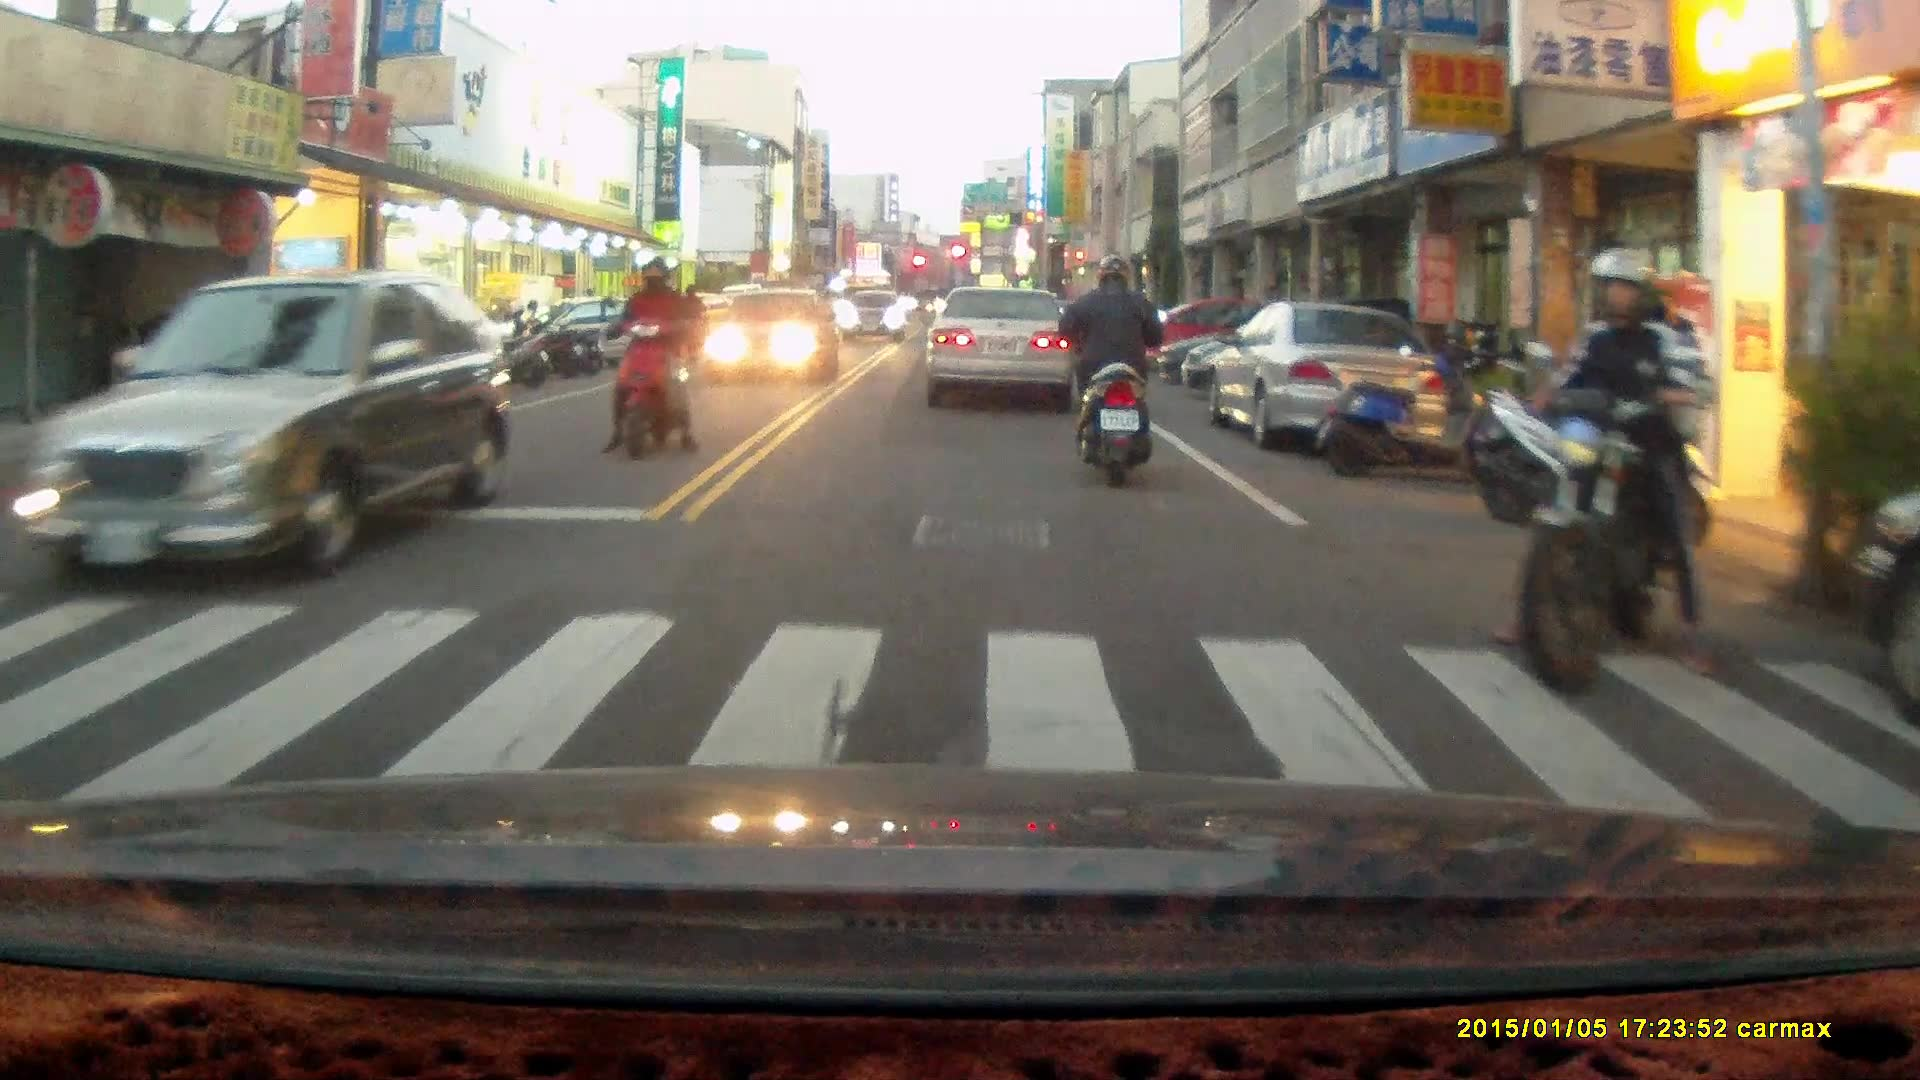pedestrian: (678, 281, 706, 357)
rider: (1505, 245, 1725, 690), (1060, 251, 1171, 484), (599, 254, 699, 462)
vehicle: (12, 269, 507, 592), (1212, 304, 1451, 456), (1853, 482, 1920, 727), (928, 286, 1082, 388), (700, 285, 838, 382), (836, 290, 912, 347)
